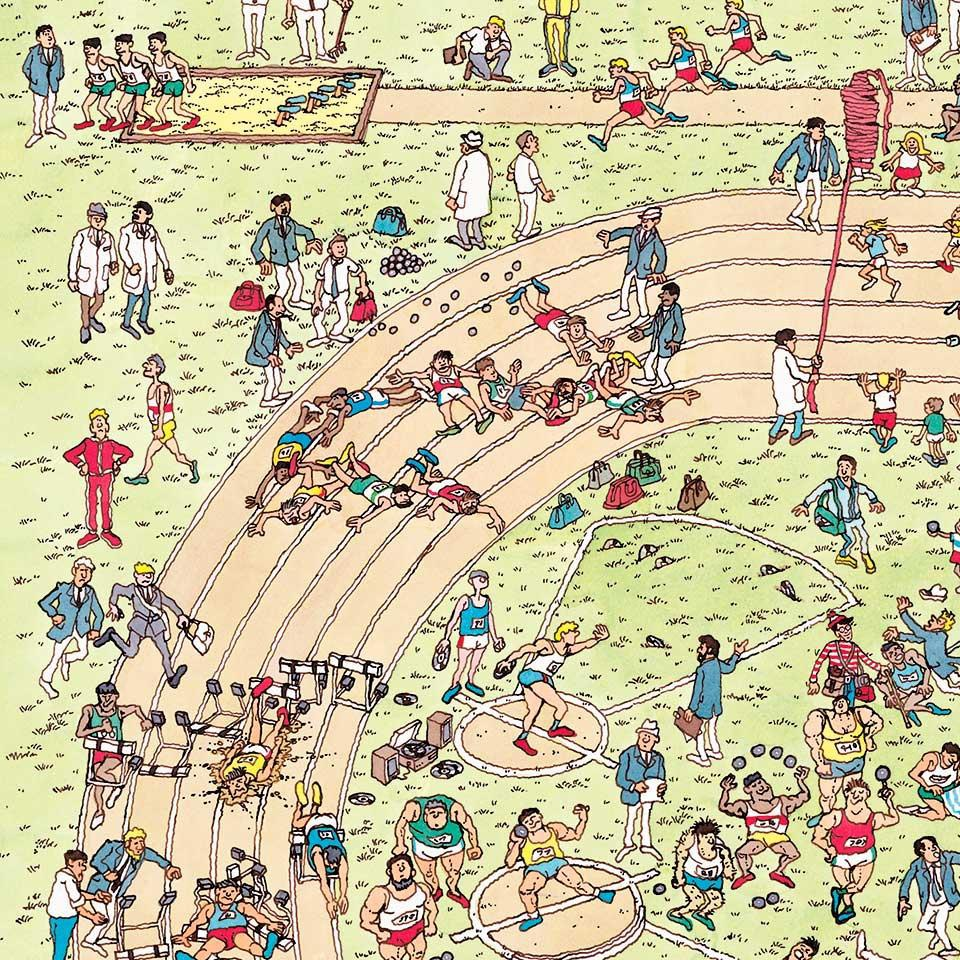waldo: (808, 609, 887, 702)
